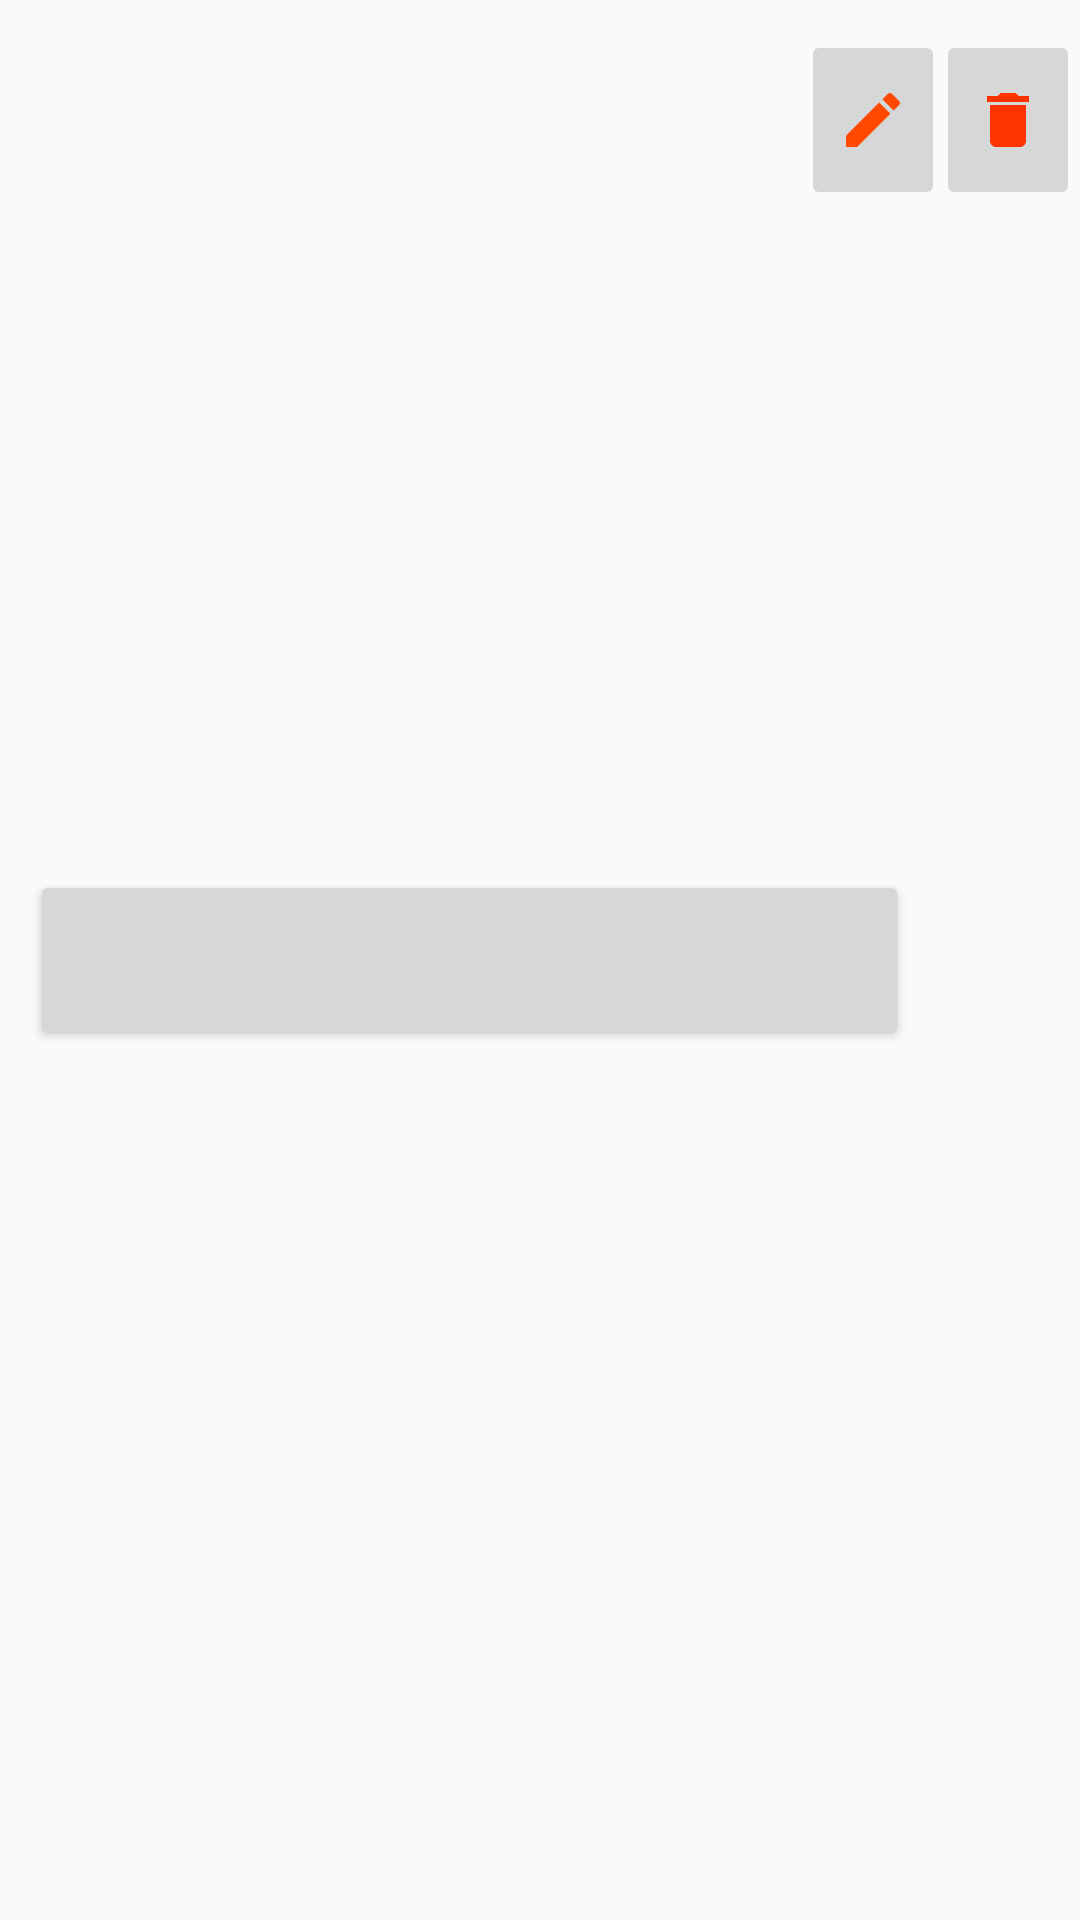

Locate icon controls on the screen. Image size 1080px x 1920px, boxes as (x1, y1, x2, y2).
delete: (948, 48, 1068, 192)
edit: (813, 48, 933, 192)
